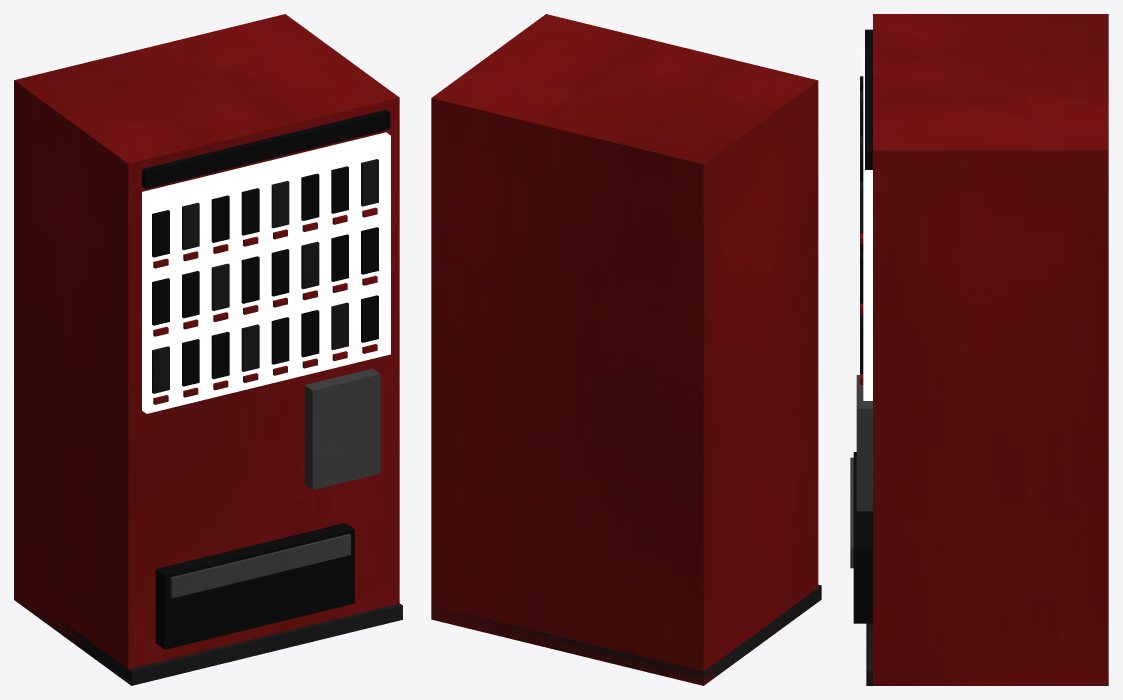
The model's file is vending_machine_red.glb.
3 views of the same model, side by side, from view 1: azimuth 30°, elevation 25°; view 2: azimuth 150°, elevation 25°; view 3: azimuth 270°, elevation 25° (orthographic). The views are drawn at different scales.
Visible parts, largest first — view 1: vending_machine_red; view 2: vending_machine_red; view 3: vending_machine_red.
Boxes of the visible parts, x1=… form: vending_machine_red: x1=14, y1=14, x2=402, y2=685; vending_machine_red: x1=431, y1=14, x2=821, y2=685; vending_machine_red: x1=850, y1=14, x2=1108, y2=685.
Size of the model in its own units: 1 by 1.83 by 0.8.
5 materials, 5 textured.
